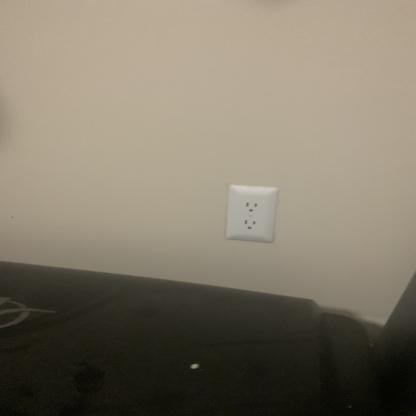OUTLET: (226, 185, 274, 241)
